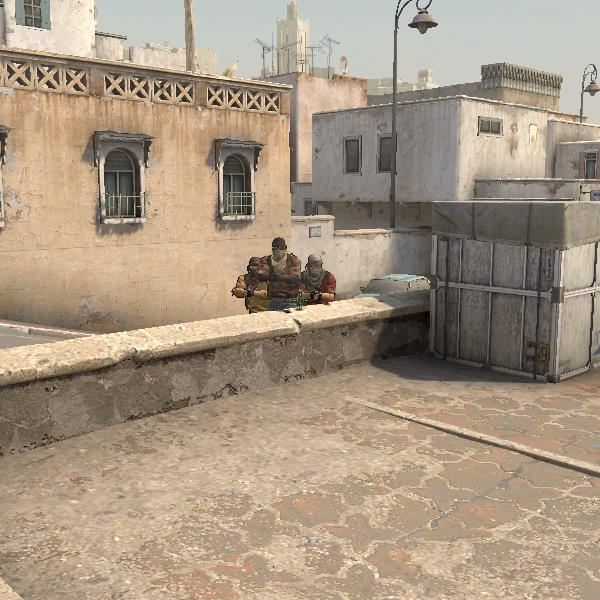t_body: (291, 251, 342, 305)
t_head: (301, 253, 328, 279)
